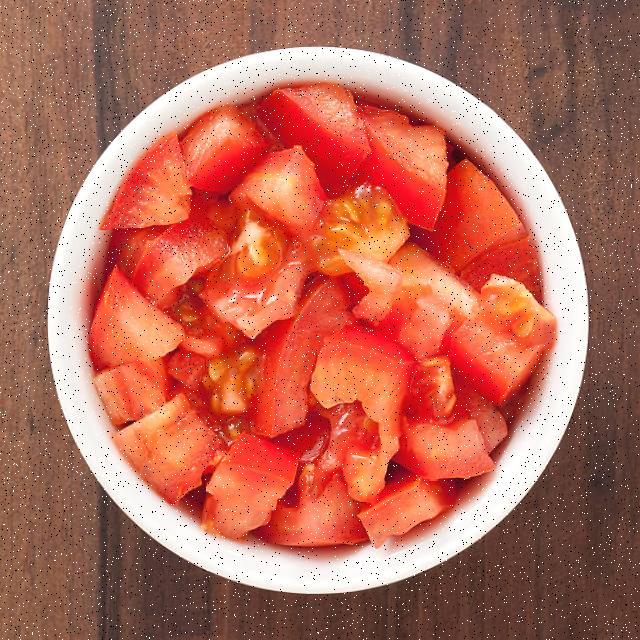Tomato: (157, 132, 489, 482)
